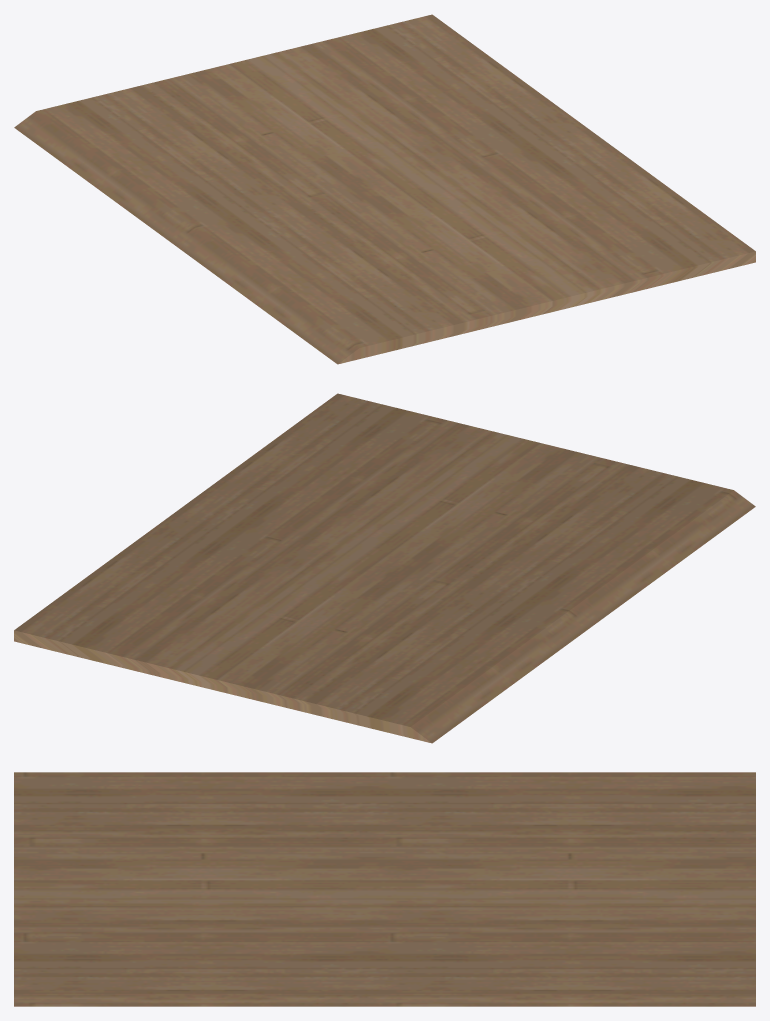
File: CLOSETFLOOR.glb
3 views of the same model, one above another, from view 1: azimuth 30°, elevation 25°; view 2: azimuth 150°, elevation 25°; view 3: azimuth 270°, elevation 25° (orthographic). The views are drawn at different scales.
Visible parts, largest first — view 1: CLOSETFLOOR; view 2: CLOSETFLOOR; view 3: CLOSETFLOOR.
Part boxes in pixels (bbox=[...]): CLOSETFLOOR: bbox=[14, 14, 755, 364]; CLOSETFLOOR: bbox=[14, 393, 755, 743]; CLOSETFLOOR: bbox=[14, 772, 755, 1006].
Size of the model in its own units: 448 by 11.36 by 601.
1 material, 1 textured.
